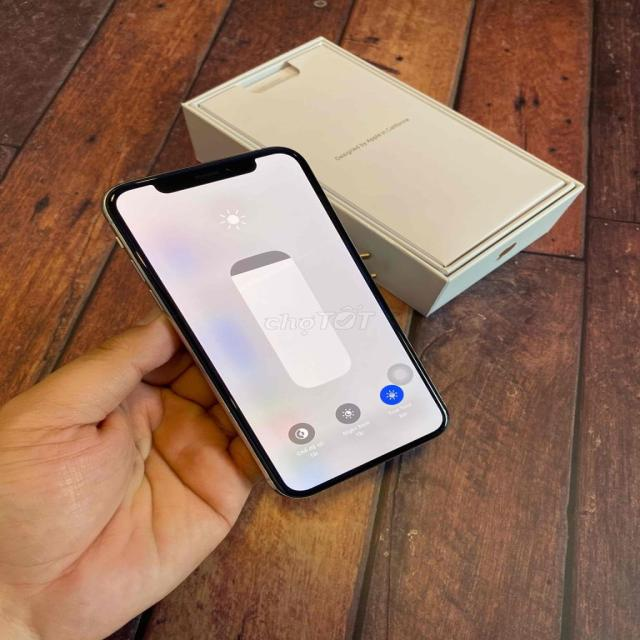gen_x_xs: (105, 148, 446, 496)
